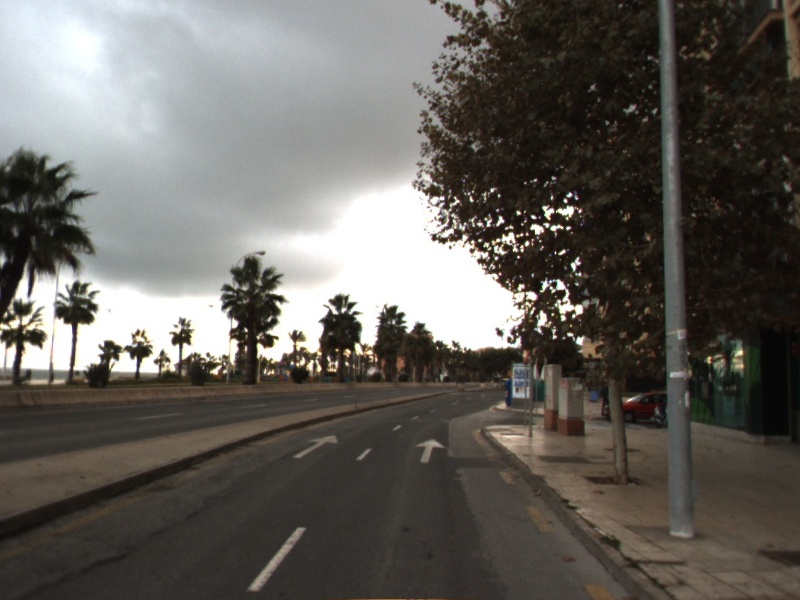STRAIGHT: (291, 433, 340, 460), (414, 437, 447, 464)
